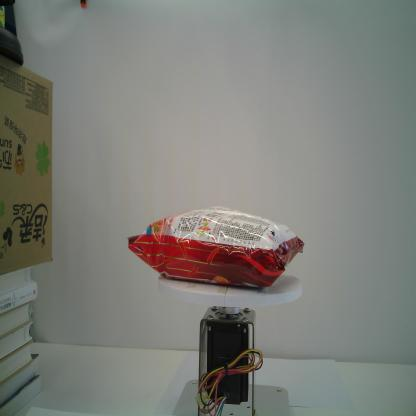Puffed Food: (127, 206, 306, 289)
